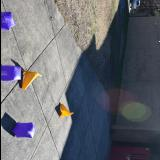cone: (20, 70, 42, 90), (58, 104, 73, 117)
cube: (11, 122, 35, 138), (0, 66, 20, 82), (1, 12, 14, 30)
